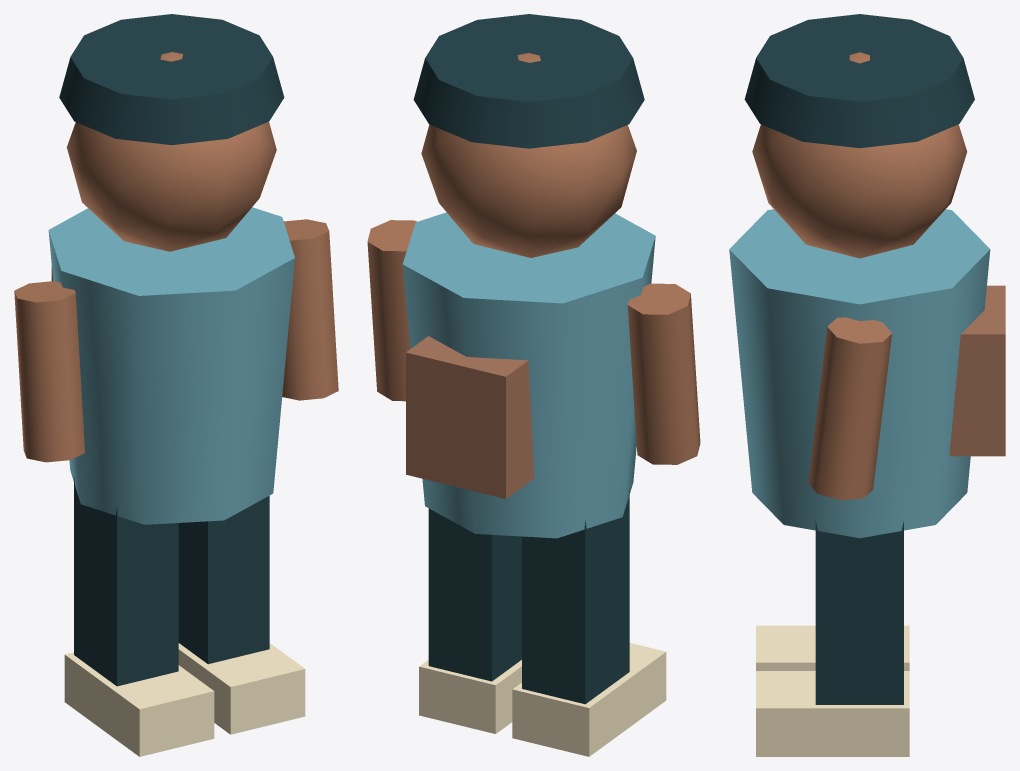
The model's file is guest_b.glb.
3 renders of one model, left to right at view 1: azimuth 30°, elevation 25°; view 2: azimuth 150°, elevation 25°; view 3: azimuth 270°, elevation 25°, orthographic. The views are drawn at different scales.
Parts seen in each view (by area): view 1: guest_b; view 2: guest_b; view 3: guest_b.
Part boxes in pixels (left/top/right/bottom): guest_b: left=14, top=14, right=338, bottom=756; guest_b: left=367, top=14, right=700, bottom=756; guest_b: left=729, top=14, right=1005, bottom=756.
Bounding box in the file's own units: 0.95 × 1.9 × 0.72.
